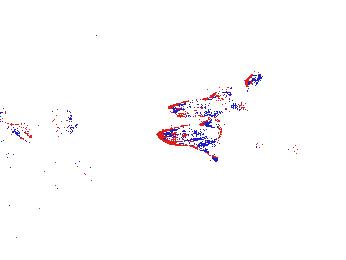X-ray fish: (128, 13, 164, 51), (46, 99, 80, 139)
red belly glassfish: (209, 86, 249, 103), (243, 70, 264, 92)
redtail glassfish: (1, 146, 106, 183), (155, 116, 224, 162), (166, 98, 255, 119), (253, 132, 301, 166), (1, 112, 40, 145)
